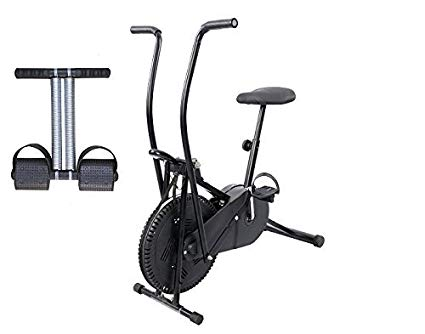gym_bike: (124, 23, 329, 327)
